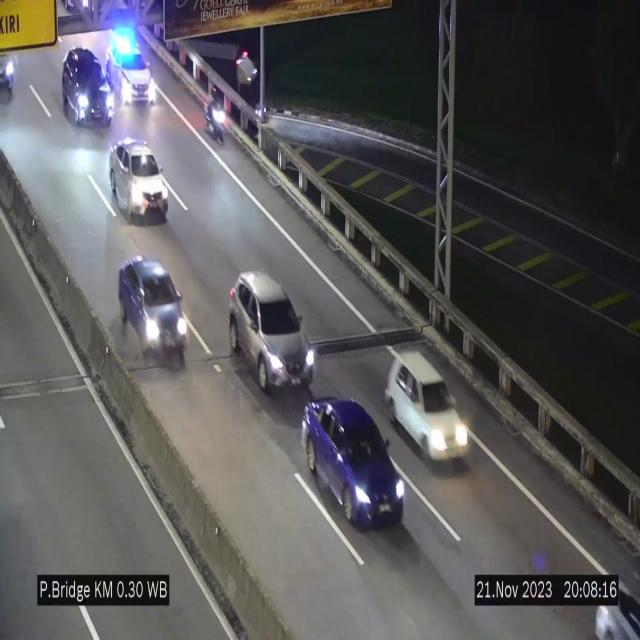Car: (302, 397, 404, 526), (229, 271, 315, 389), (392, 355, 474, 469), (118, 257, 194, 369), (109, 138, 168, 220), (61, 45, 109, 136), (107, 32, 155, 114)
Motorcycle: (202, 79, 226, 137)
Truck: (177, 42, 271, 116)
